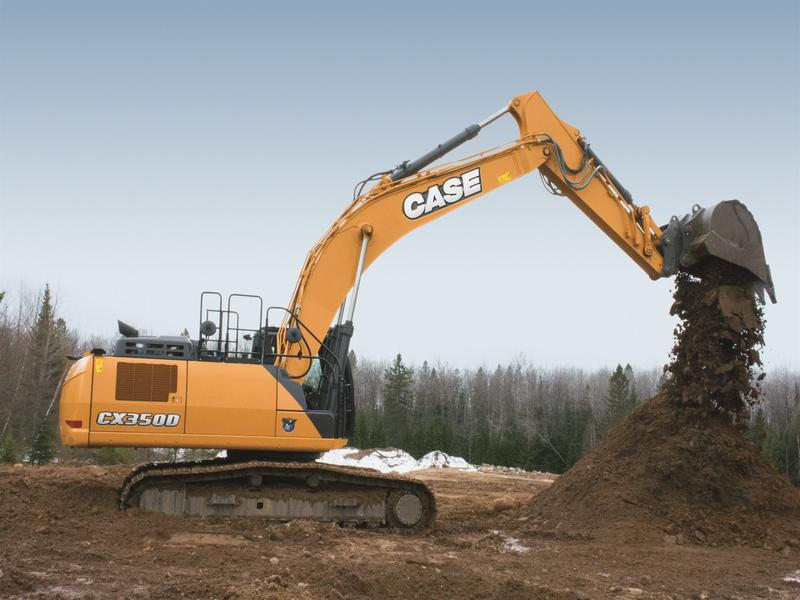shovel: (35, 83, 789, 534)
